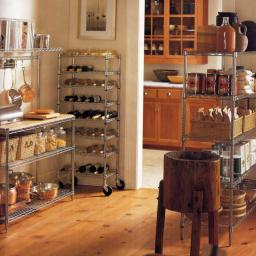Bote de Basura: (157, 152, 221, 254)
